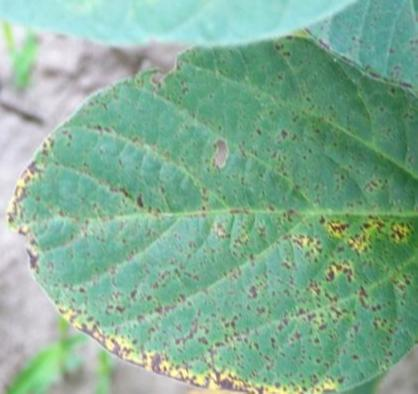Tomato Septoria leaf spot: (0, 48, 418, 394)
